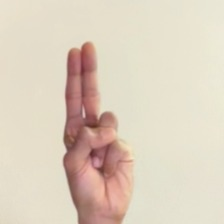U: (51, 25, 146, 224)
